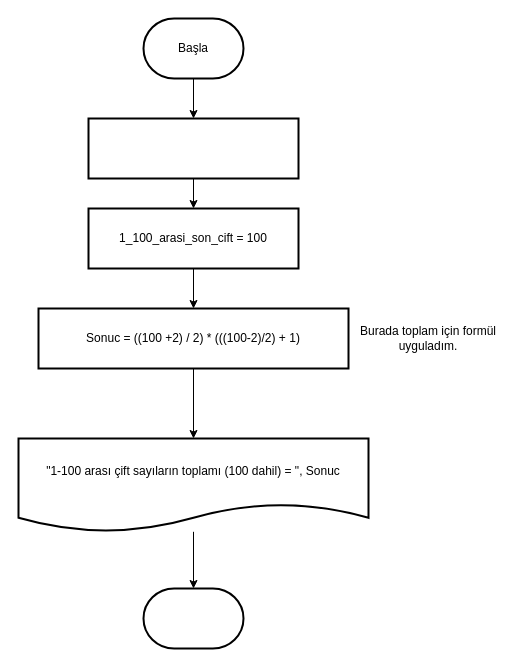
This 515x666 diagram has some shape labels left out. The shapes that lost their labels are listed below. From the top down, each one's centre as x and y in pixels, then its label:
point 193,148: 1_100_arasi_ilk_cift = 2
point 193,618: Bitir
